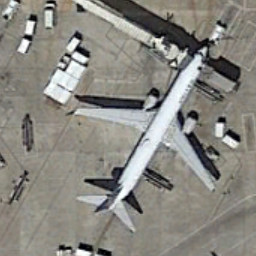Airplane: (69, 41, 224, 231)
